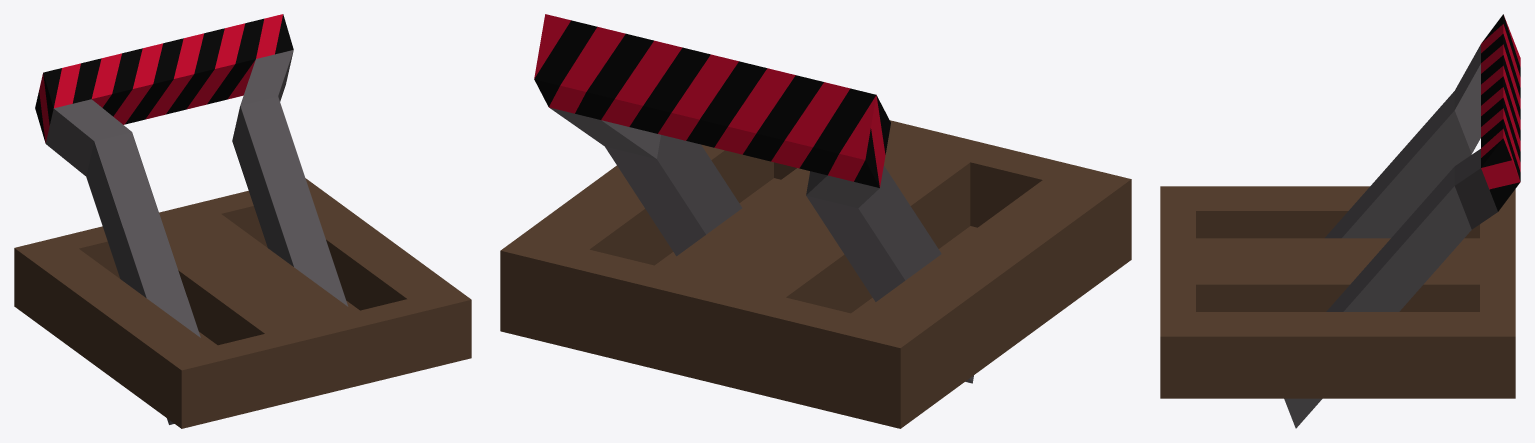
File: LeverRFloorEnd.glb
3 views of the same model, side by side, from view 1: azimuth 30°, elevation 25°; view 2: azimuth 150°, elevation 25°; view 3: azimuth 270°, elevation 25° (orthographic). The views are drawn at different scales.
Visible parts, largest first — view 1: Plane.005, Plane.003, Plane.004; view 2: Plane.005, Plane.003, Plane.004; view 3: Plane.005, Plane.004, Plane.003.
Boxes of the visible parts, x1,y1,x2,y2 form: Plane.005: [14, 178, 471, 428]; Plane.003: [35, 43, 200, 424]; Plane.004: [163, 14, 348, 306]; Plane.005: [500, 120, 1131, 428]; Plane.003: [700, 54, 973, 383]; Plane.004: [534, 14, 742, 256]; Plane.005: [1160, 186, 1515, 398]; Plane.004: [1284, 76, 1520, 428]; Plane.003: [1325, 14, 1520, 238].
Bounding box in the file's own units: 0.8582 × 0.814 × 0.8702.
